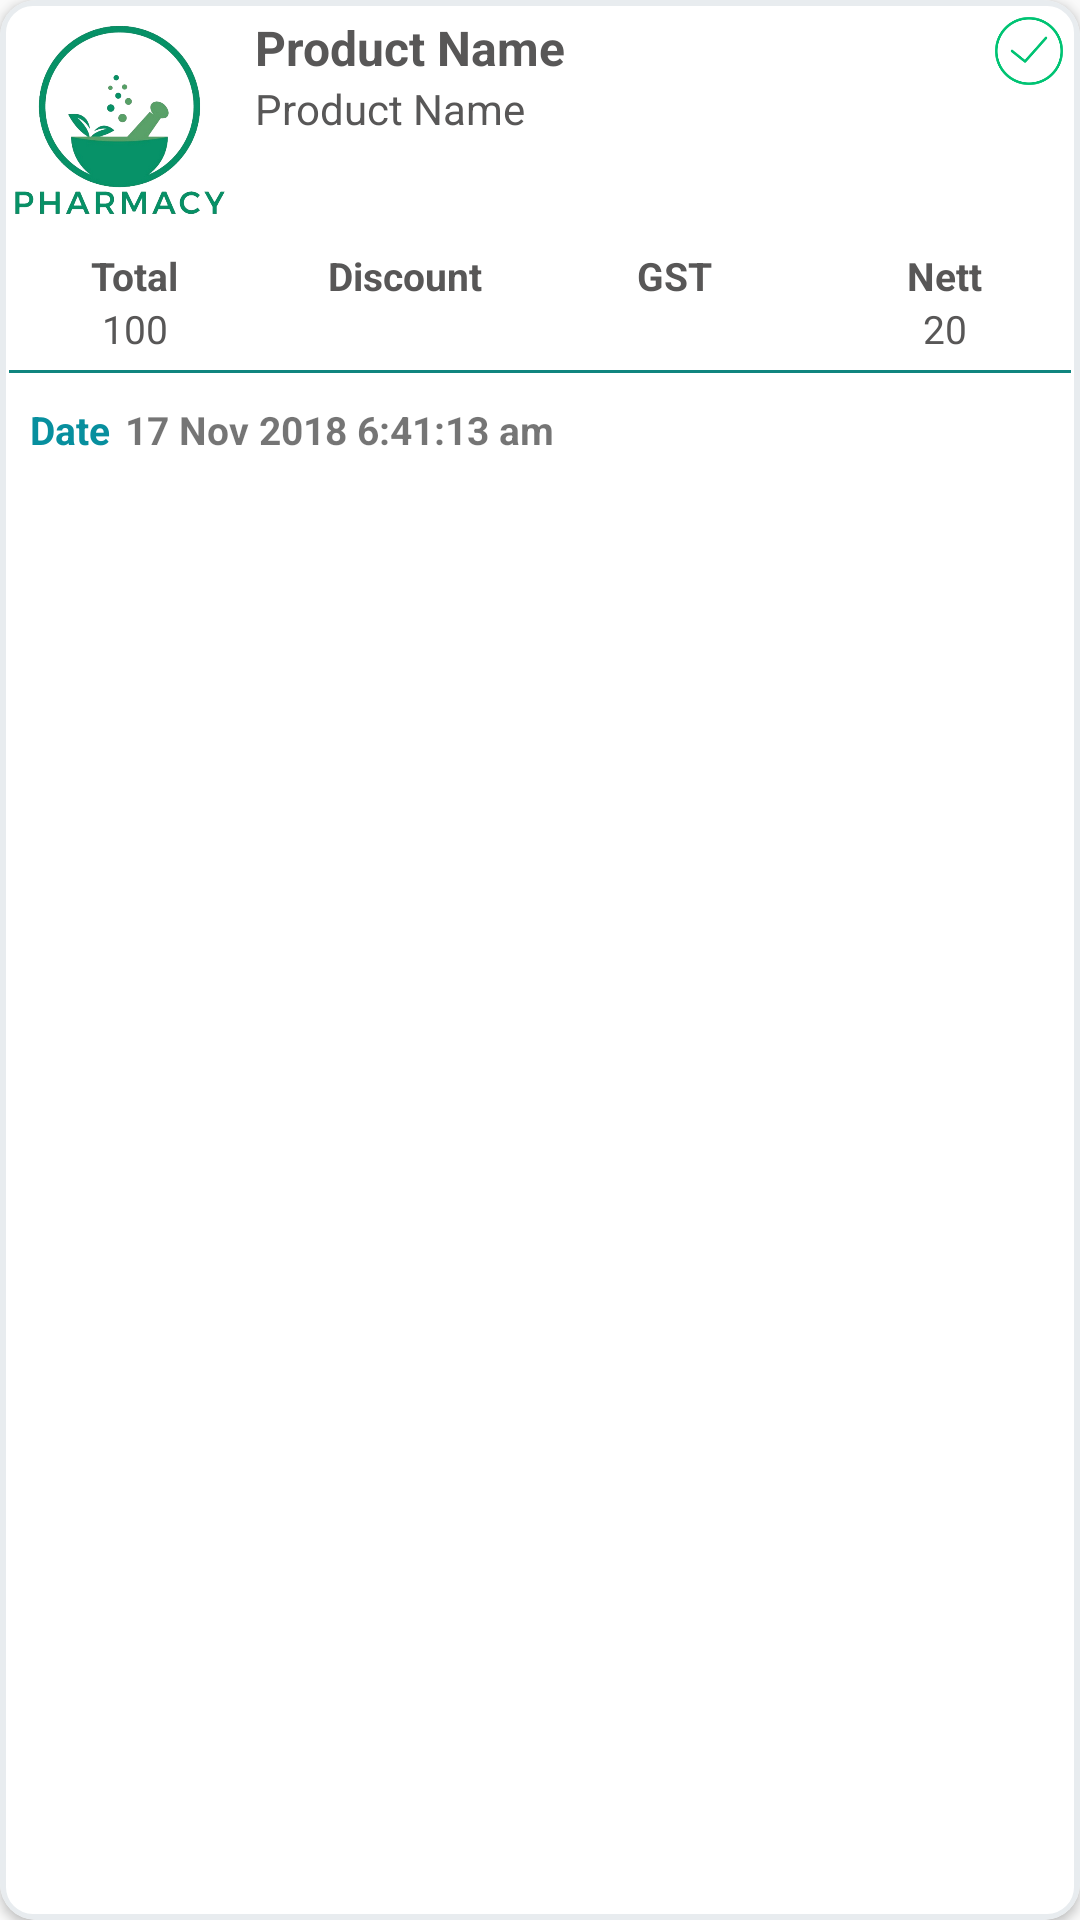

Point at icon controls on the screen. Image size 1080 x 1920, points as (x,y).
success: (1029,51)
